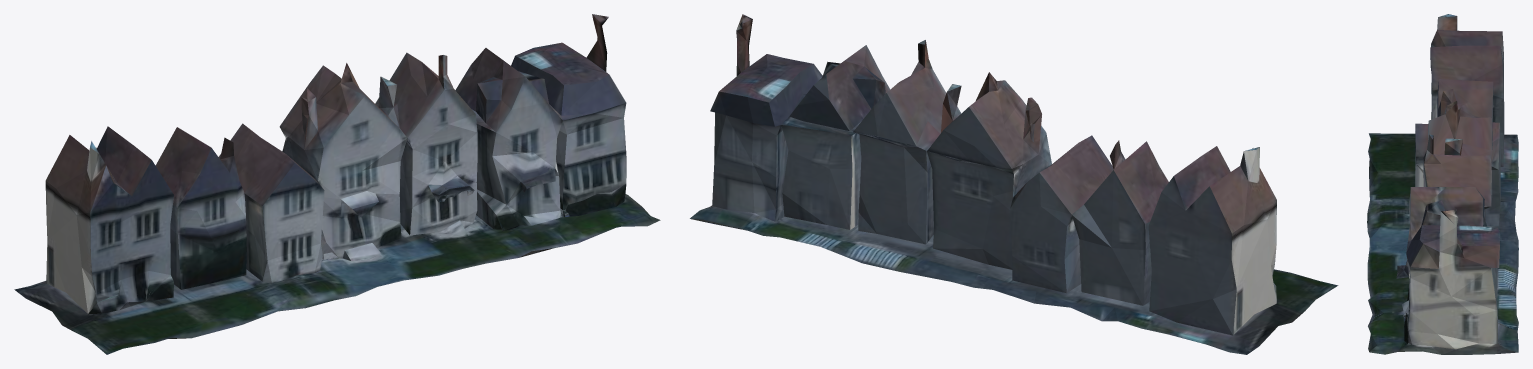
File: terrace_row_low.glb
The picture shows the model from 3 angles, left to right: view 1: azimuth 30°, elevation 25°; view 2: azimuth 150°, elevation 25°; view 3: azimuth 270°, elevation 25°; orthographic projection. The views are drawn at different scales.
Parts seen in each view (by area): view 1: m; view 2: m; view 3: m.
Part boxes in pixels (<box>): m: <box>14,14,660,354</box>; m: <box>690,14,1338,354</box>; m: <box>1367,14,1518,354</box>.
Size of the model in its own units: 27.99 by 9 by 8.2.
1 material, 1 textured.
